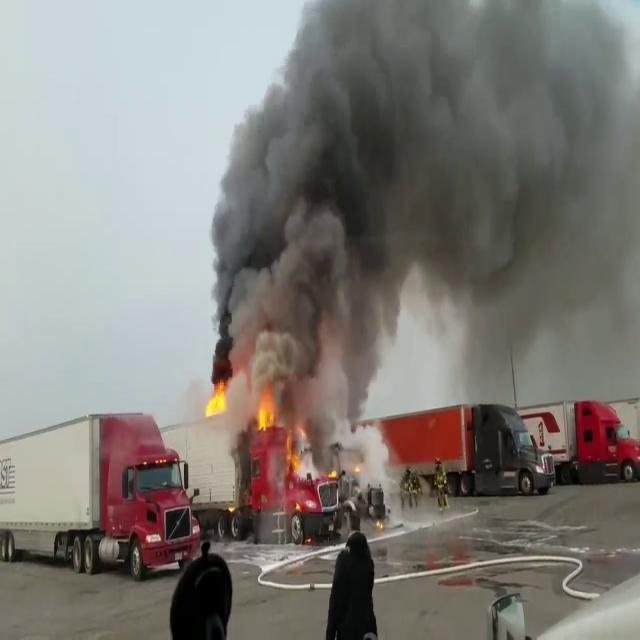Fire: (280, 424, 314, 482), (204, 374, 230, 420), (253, 388, 278, 434)
Smoke: (203, 1, 640, 397)
